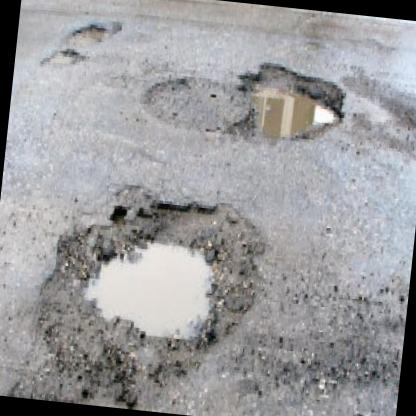pothole: (26, 178, 270, 416), (222, 54, 352, 150), (69, 12, 124, 52), (40, 44, 86, 72)
